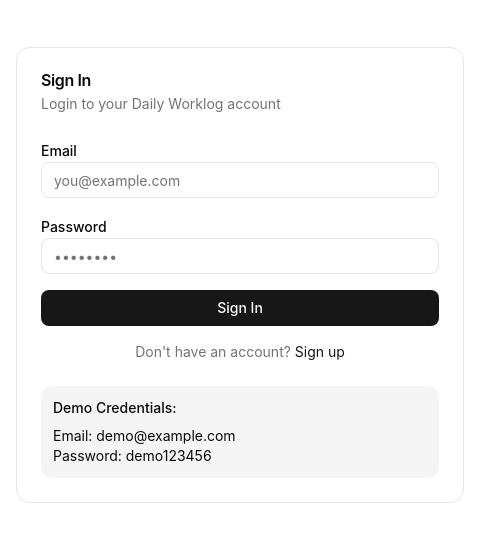
Test: Login Page › shows error message for invalid credentials
In the field labelled "Email": coordinates (240, 180) [41,162,439,198], type "wrong@example.com"
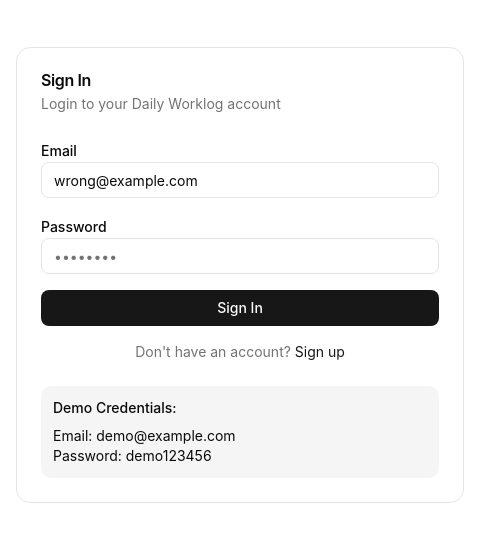
In the password field labelled "Password": coordinates (240, 256) [41,238,439,274], type "wrongpassword"
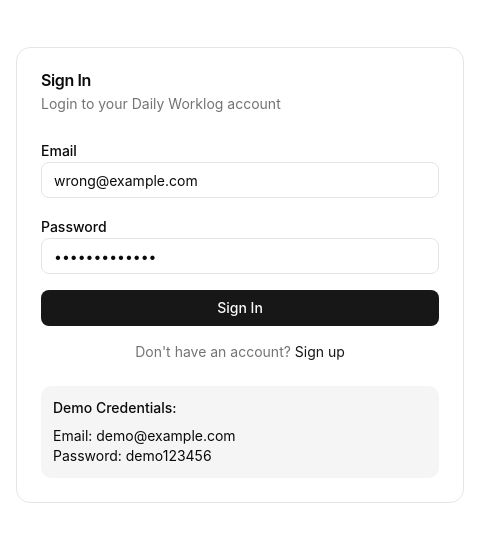
Click the button "Sign In": coordinates (240, 308) [41,290,439,326]
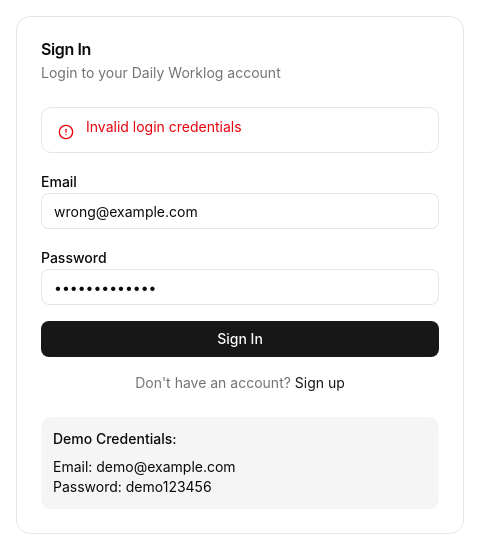
expect the text "Invalid login credentials" is shown: met, box [86,118,242,135]
